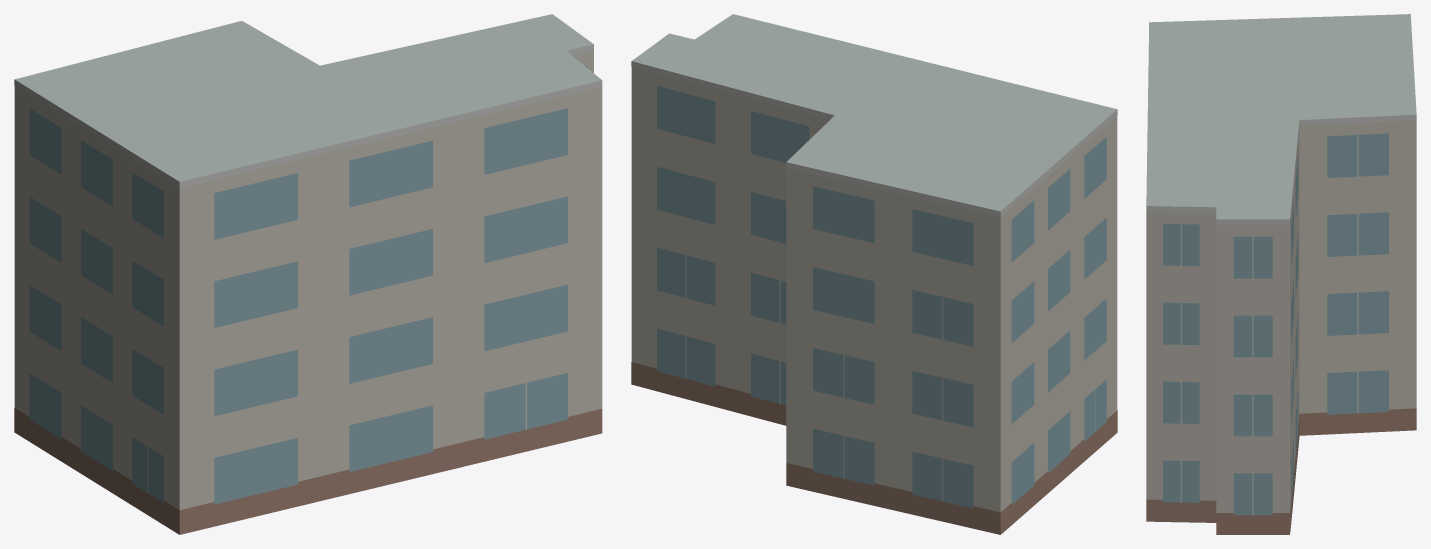
File: survey-upis-32798761.glb
The picture shows the model from 3 angles, left to right: view 1: azimuth 30°, elevation 25°; view 2: azimuth 150°, elevation 25°; view 3: azimuth 270°, elevation 25°; orthographic projection. The views are drawn at different scales.
Visible parts, largest first — view 1: survey-upis-32798761.tmp; view 2: survey-upis-32798761.tmp; view 3: survey-upis-32798761.tmp.
Part boxes in pixels (<box>): survey-upis-32798761.tmp: <box>14,14,602,534</box>; survey-upis-32798761.tmp: <box>631,14,1117,534</box>; survey-upis-32798761.tmp: <box>1146,14,1416,534</box>.
Size of the model in its own units: 18.98 by 13.6 by 10.57.
